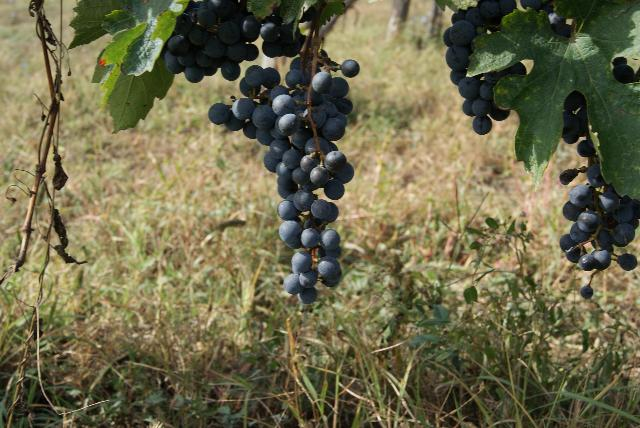grapes: (209, 65, 354, 304)
